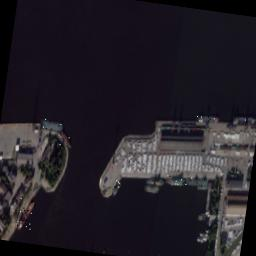boat: (16, 198, 34, 230), (184, 176, 208, 188), (232, 112, 255, 124), (164, 174, 186, 186), (196, 112, 218, 124), (42, 118, 62, 131), (58, 130, 72, 148), (144, 174, 164, 186), (110, 178, 120, 196), (144, 183, 159, 193), (196, 214, 206, 219), (196, 236, 202, 240), (204, 228, 209, 232), (206, 214, 208, 224), (199, 238, 203, 242), (198, 230, 202, 234), (204, 210, 209, 212), (202, 236, 206, 238), (203, 232, 206, 234), (203, 238, 205, 240), (208, 222, 210, 224)
